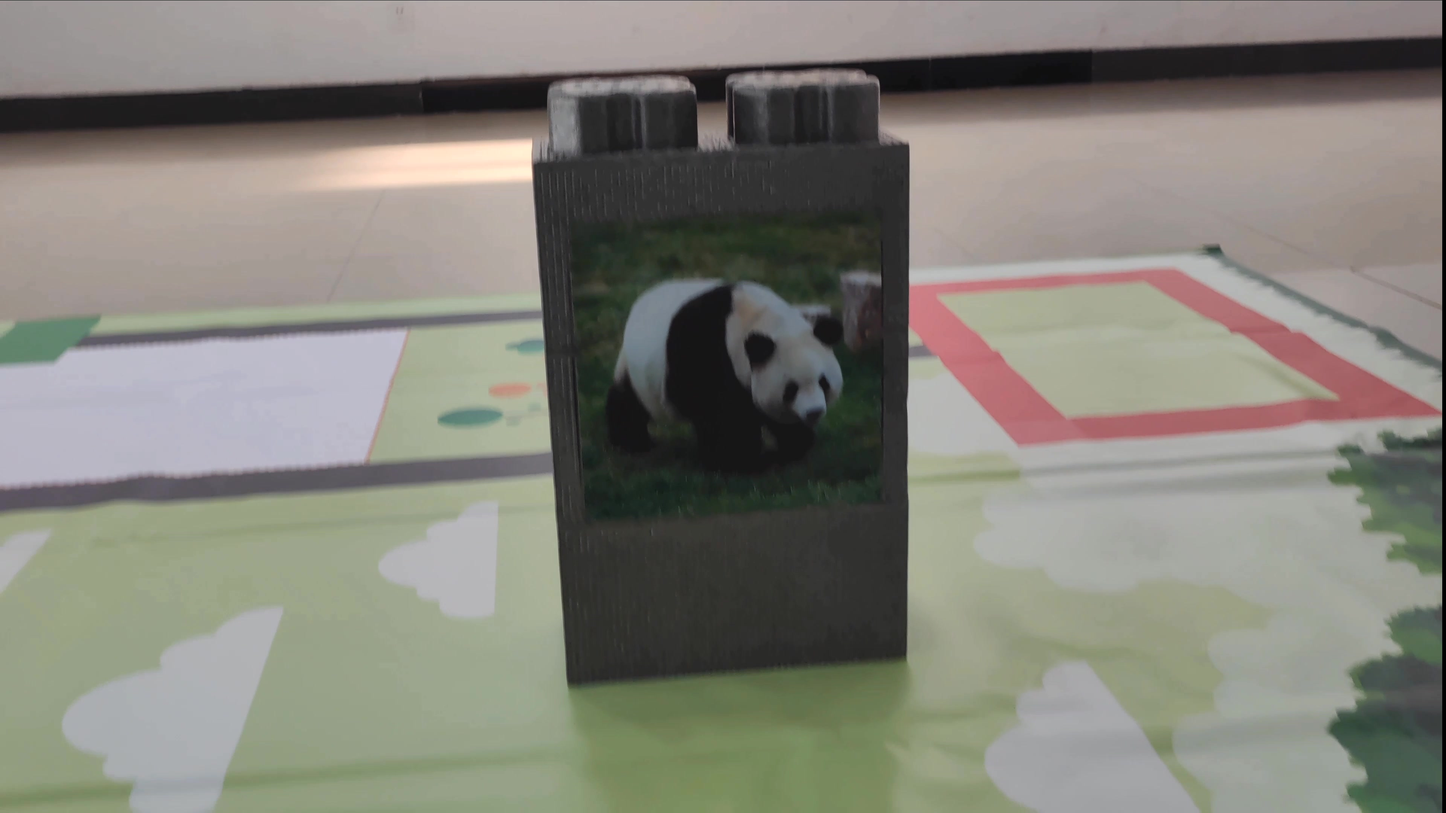panda: (574, 260, 859, 511)
